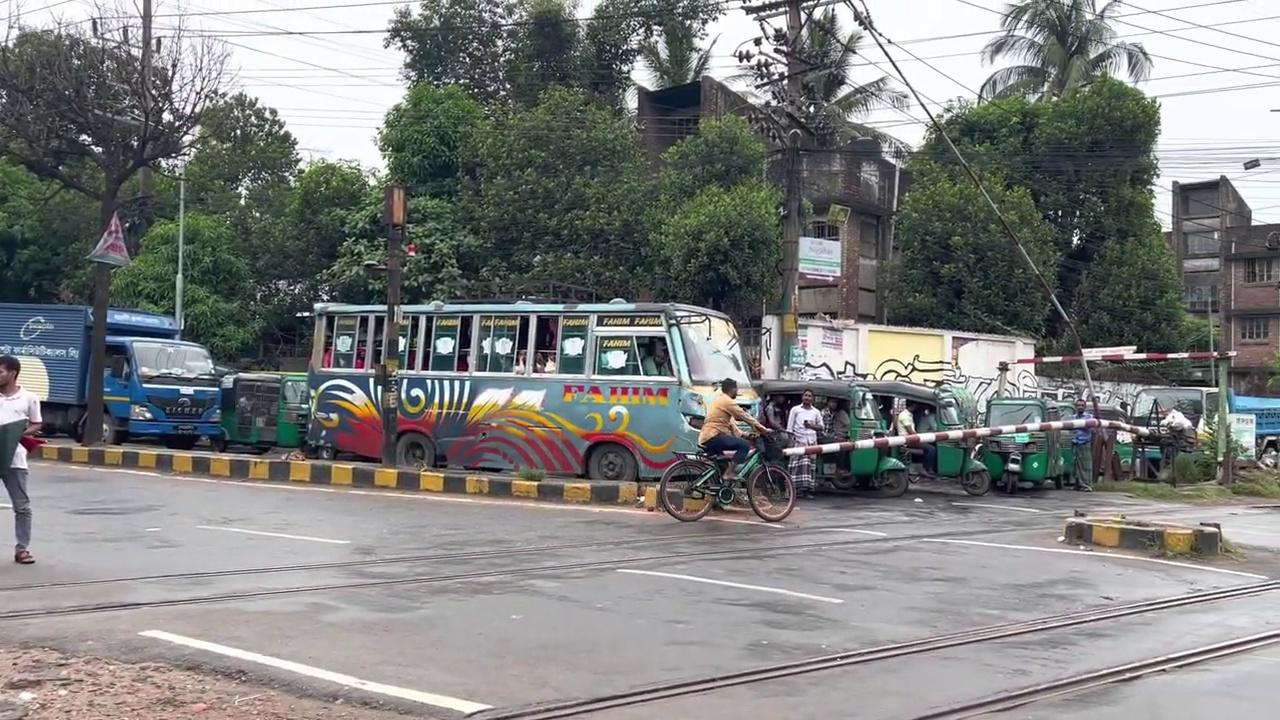Car: (36, 441, 658, 512)
Fence: (0, 354, 43, 564), (697, 377, 770, 482), (785, 388, 824, 499), (1069, 399, 1098, 492)
Garbage: (379, 184, 406, 468), (173, 175, 186, 335)
Motorcycle: (465, 575, 1278, 717)
Rickshaw: (298, 299, 769, 485), (0, 301, 225, 449), (217, 369, 310, 453)
